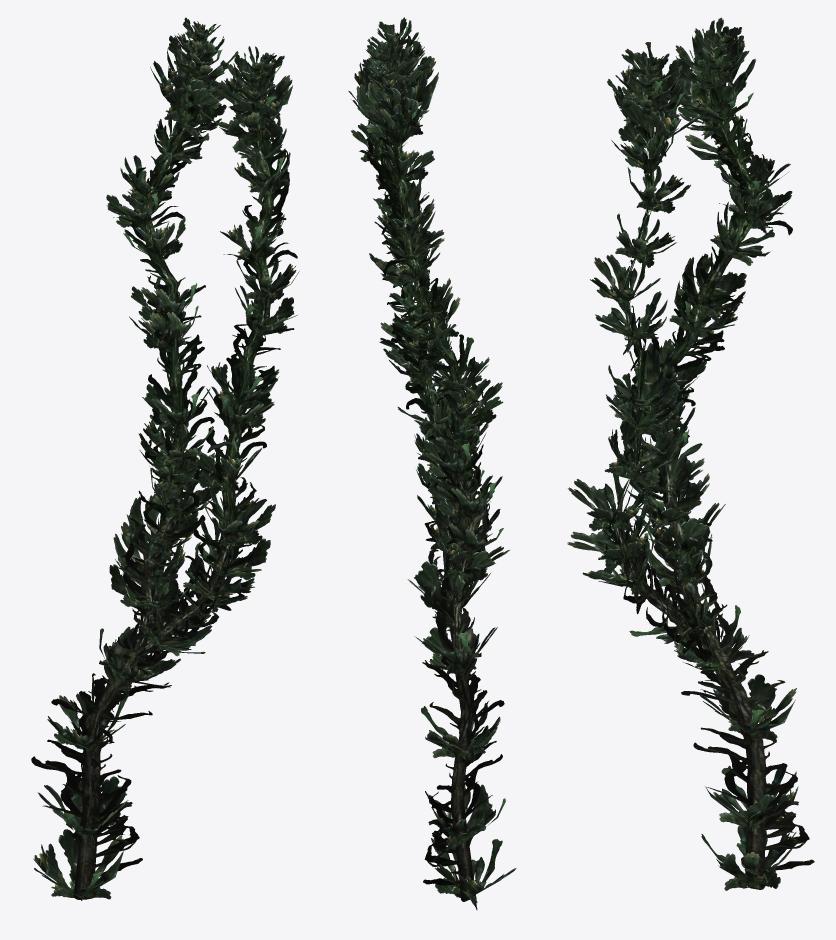
File: PondWeed.007_FBX_still.fbx
The picture shows the model from 3 angles, left to right: view 1: azimuth 30°, elevation 25°; view 2: azimuth 150°, elevation 25°; view 3: azimuth 270°, elevation 25°; orthographic projection. The views are drawn at different scales.
Visible parts, largest first — view 1: PondWeed.007_gameasset; view 2: PondWeed.007_gameasset; view 3: PondWeed.007_gameasset.
Boxes of the visible parts, bbox=[...] form: PondWeed.007_gameasset: bbox=[31, 17, 299, 900]; PondWeed.007_gameasset: bbox=[348, 17, 516, 910]; PondWeed.007_gameasset: bbox=[567, 17, 814, 890].
Size of the model in its own units: 7.4 by 26.28 by 6.75.
Materials: 2 (2 with a texture image).
